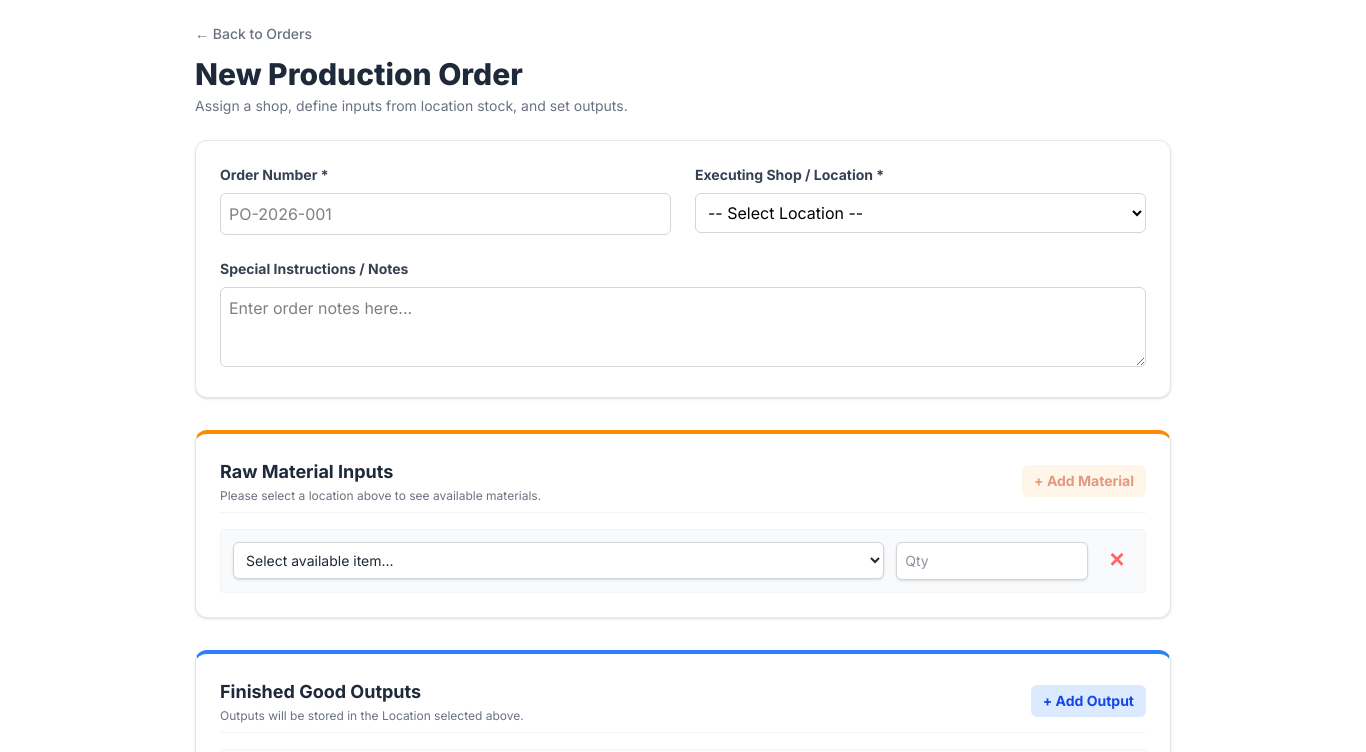
Test: NewOrder — successful submission › shows API error message if order creation fails
Type "PO-DUP-001" into the field with placeholder "PO-2026-001".
click(446, 214); type("PO-DUP-001")  # box [220, 193, 671, 235]
Select "Main Shop (shop)" in the dropdown named "locationId" below "Executing Shop / Location *" at {"x": 920, "y": 213}, box [695, 193, 1146, 233]
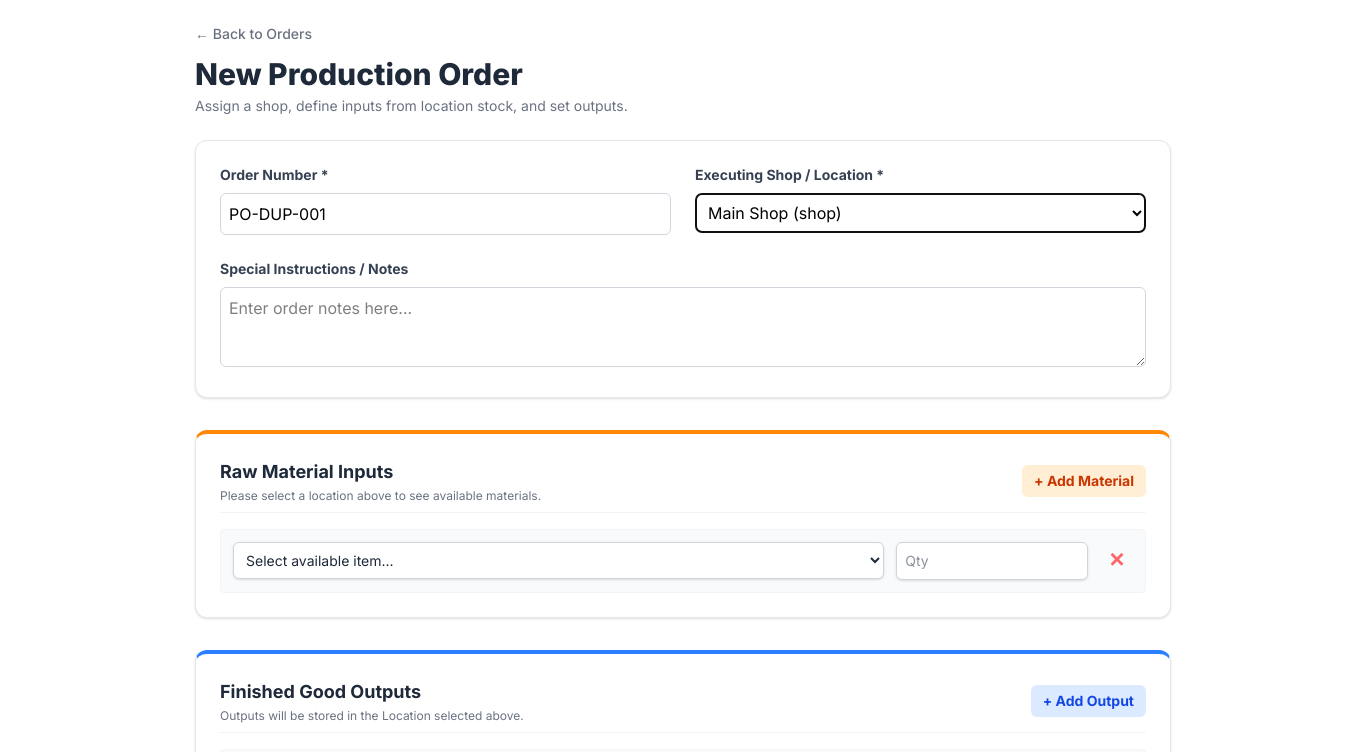
Select "Steel Rods — 100 kg available here" in the dropdown named "inputs.0.itemId" below "Raw Material Inputs" at {"x": 559, "y": 560}, box [233, 542, 884, 579]
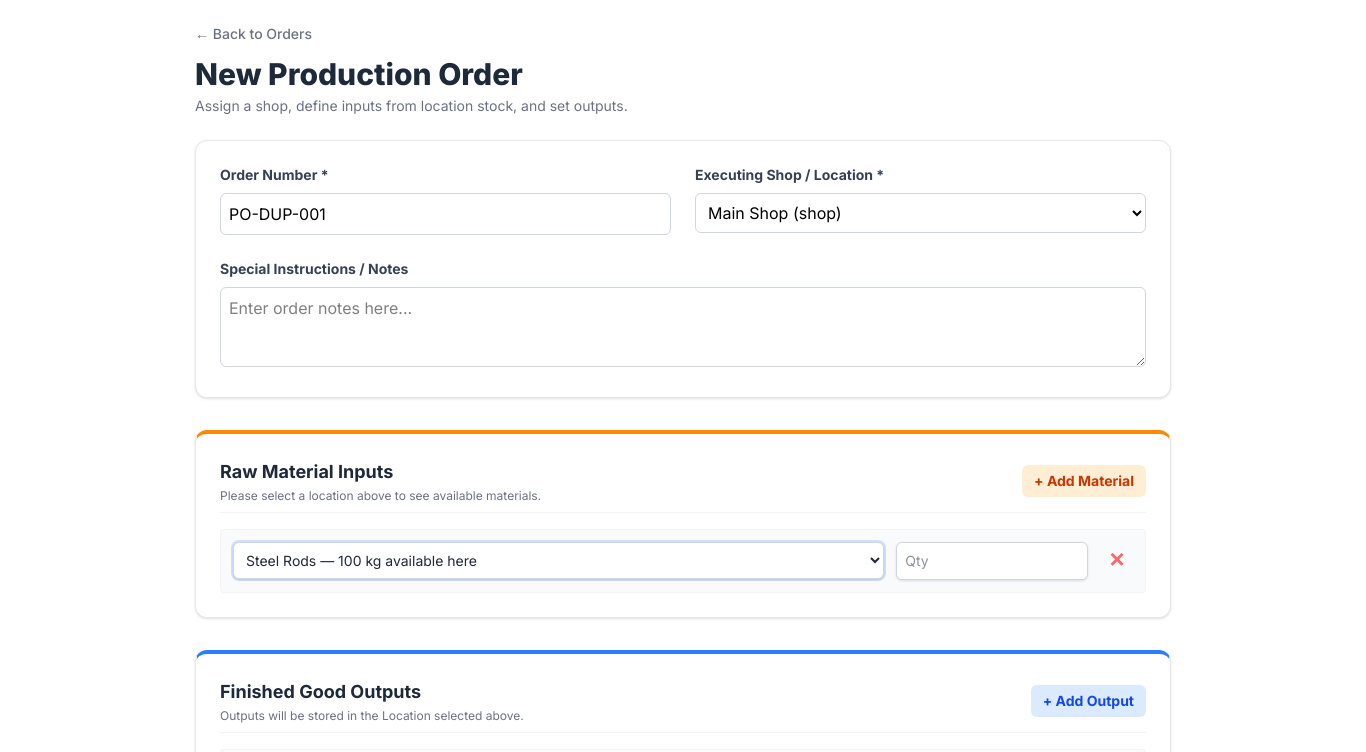
Type "10" into the number field named "inputs.0.quantityRequired".
click(992, 561); type("10")  # box [896, 542, 1088, 580]
(page scrolled)
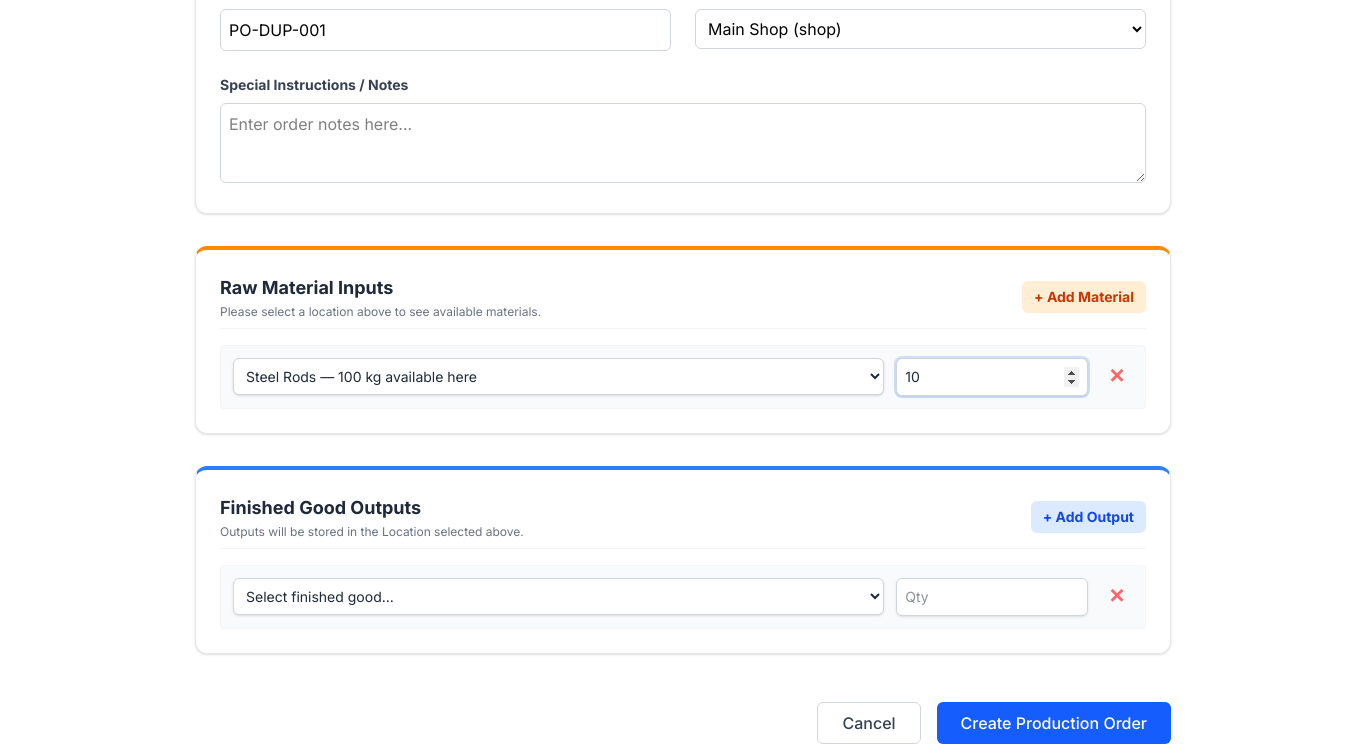
Select "Gear Assembly (FIN-GEAR-01)" in the dropdown named "outputs.0.itemId" below "Finished Good Outputs" at {"x": 559, "y": 596}, box [233, 578, 884, 615]
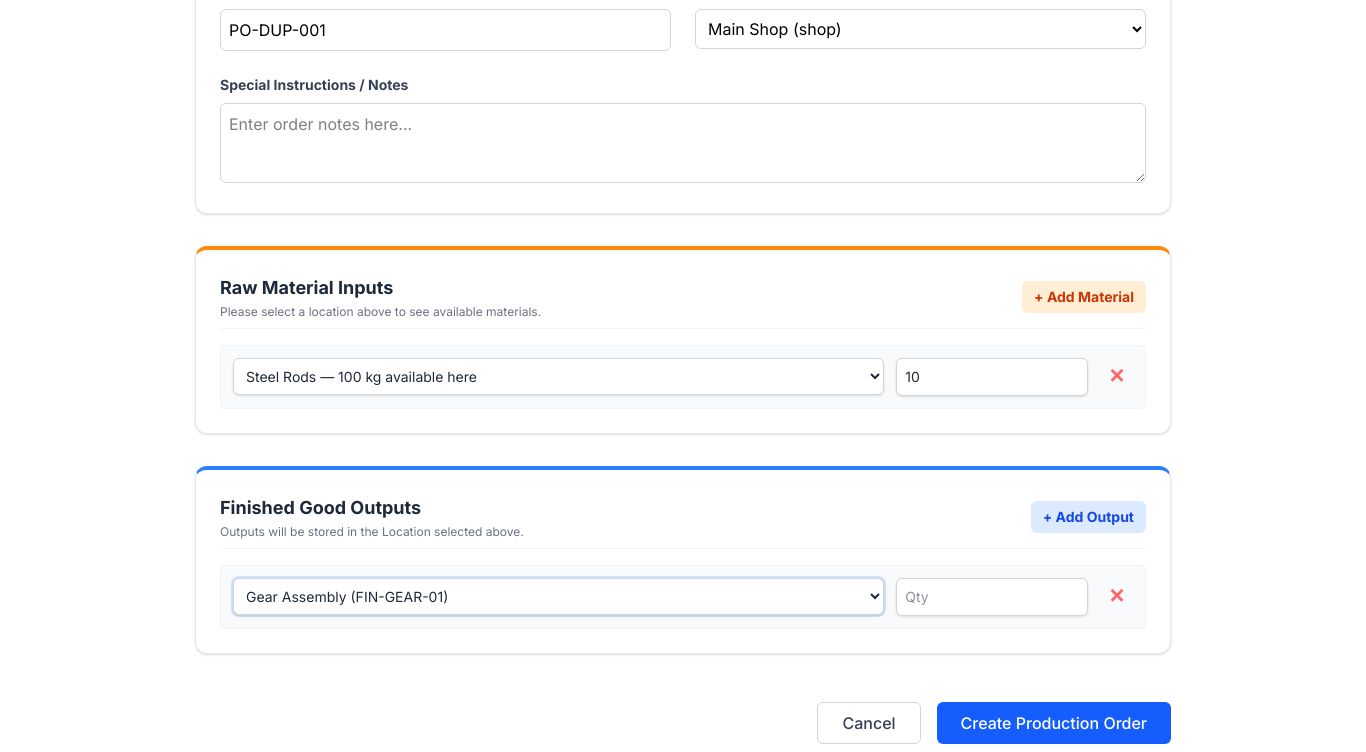
Type "5" into the number field named "outputs.0.quantityProduced".
click(992, 597); type("5")  # box [896, 578, 1088, 616]
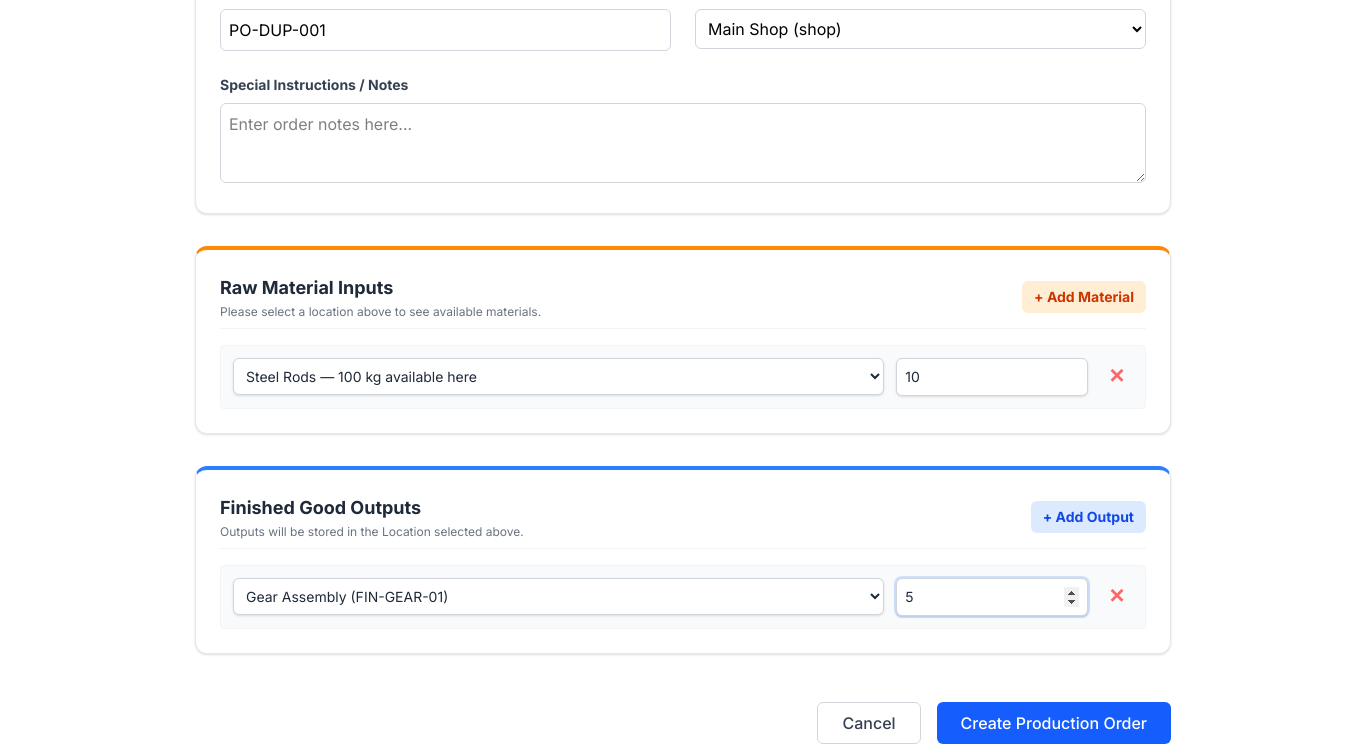
Click the button "Create Production Order".
click(1054, 723)  # box [937, 702, 1171, 744]
(page scrolled)
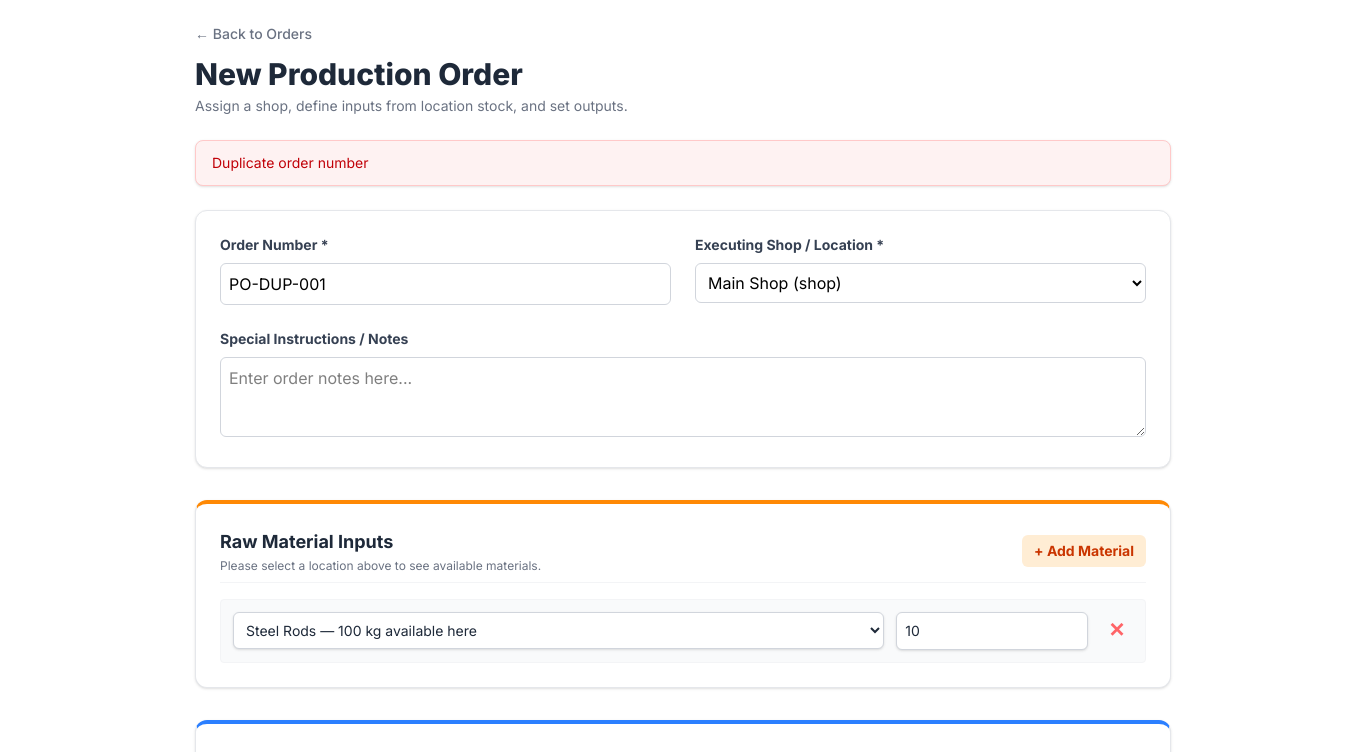
Expected: the text "Duplicate order number" is shown, [195, 140, 1171, 186]
